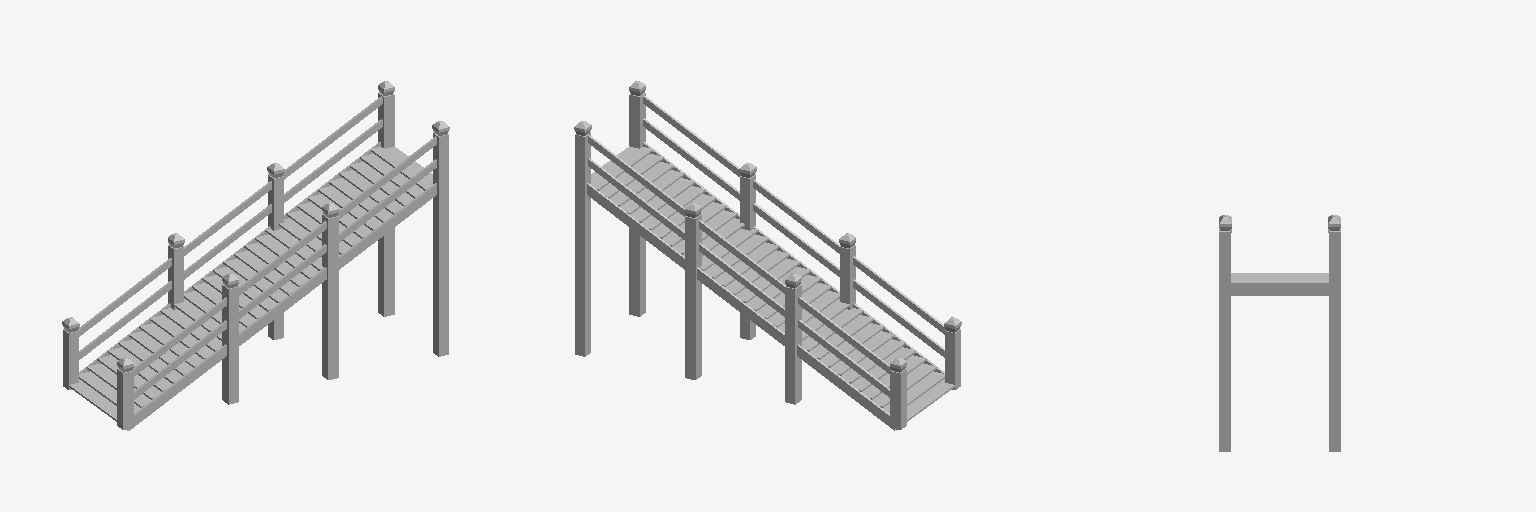
Rendered from escalier.obj.
3 renders of one model, left to right at view 1: azimuth 30°, elevation 25°; view 2: azimuth 150°, elevation 25°; view 3: azimuth 270°, elevation 25°, orthographic.
Visible parts, largest first — view 1: StaticMeshActor_102; view 2: StaticMeshActor_102; view 3: StaticMeshActor_102.
Part boxes in pixels (left/top/right/bottom): StaticMeshActor_102: left=62, top=81, right=449, bottom=430; StaticMeshActor_102: left=574, top=81, right=961, bottom=430; StaticMeshActor_102: left=1219, top=215, right=1340, bottom=451.
Size of the model in its own units: 621 by 423 by 201.